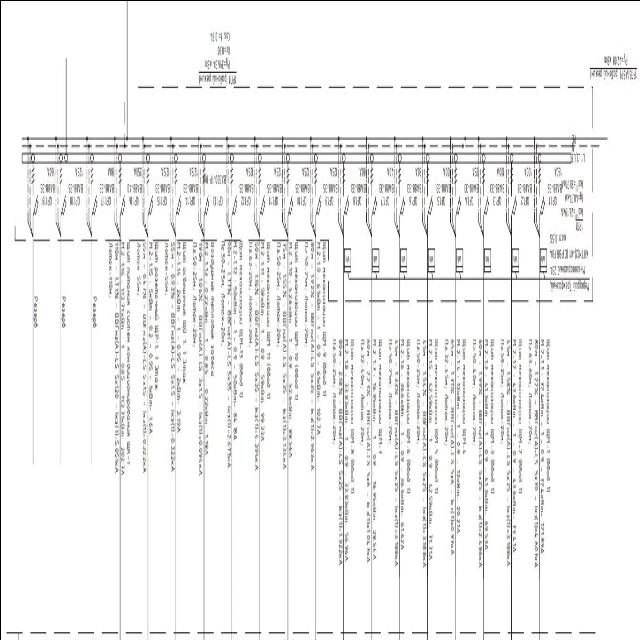-: (548, 231, 590, 294), (293, 162, 309, 195), (516, 163, 532, 196), (39, 163, 55, 196), (546, 163, 562, 196), (321, 163, 337, 196), (462, 162, 478, 195), (182, 163, 198, 196), (67, 163, 83, 196), (266, 163, 282, 196), (489, 162, 505, 195), (435, 163, 451, 196), (406, 162, 422, 194), (350, 162, 366, 194), (378, 162, 394, 194), (154, 165, 170, 197), (98, 162, 114, 194), (238, 162, 254, 194), (126, 162, 140, 194), (203, 172, 225, 186), (574, 216, 584, 232)
QF: (116, 164, 125, 217), (58, 164, 66, 217), (536, 164, 544, 216), (341, 165, 349, 217), (368, 166, 376, 218), (396, 165, 404, 217), (424, 166, 432, 218), (453, 168, 461, 220), (508, 166, 516, 218), (88, 166, 96, 218), (144, 166, 152, 218), (173, 164, 181, 216), (201, 166, 209, 218), (229, 164, 237, 216), (257, 166, 265, 218), (285, 166, 293, 218), (313, 166, 321, 218), (481, 164, 488, 216), (31, 166, 38, 218)
WH: (455, 247, 463, 273), (538, 246, 546, 272), (426, 246, 434, 272), (399, 246, 407, 272), (483, 247, 491, 273), (342, 247, 350, 273), (371, 247, 378, 273), (511, 246, 518, 272)
